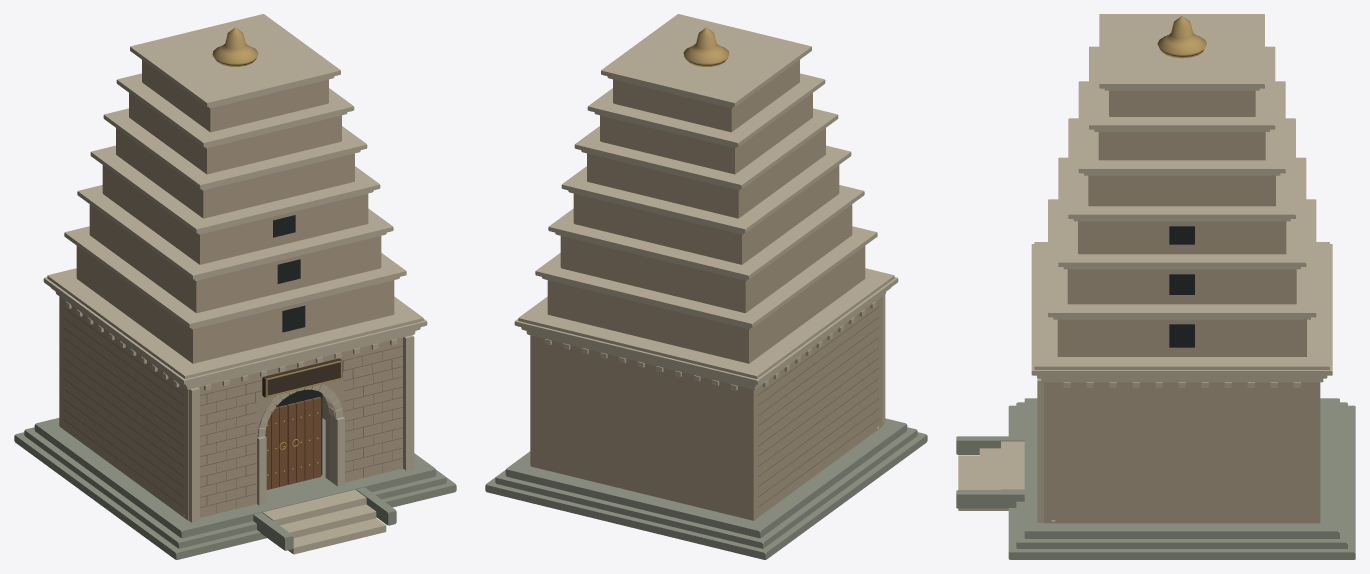
File: night_pagoda_base.glb
The picture shows the model from 3 angles, left to right: view 1: azimuth 30°, elevation 25°; view 2: azimuth 150°, elevation 25°; view 3: azimuth 270°, elevation 25°; orthographic projection. The views are drawn at different scales.
Parts seen in each view (by area): view 1: CienPagoda; view 2: CienPagoda; view 3: CienPagoda.
Part boxes in pixels (left/top/right/bottom): CienPagoda: left=14, top=14, right=456, bottom=559; CienPagoda: left=485, top=14, right=927, bottom=559; CienPagoda: left=956, top=14, right=1355, bottom=559.
Size of the model in its own units: 4.9 by 7.34 by 5.64.
